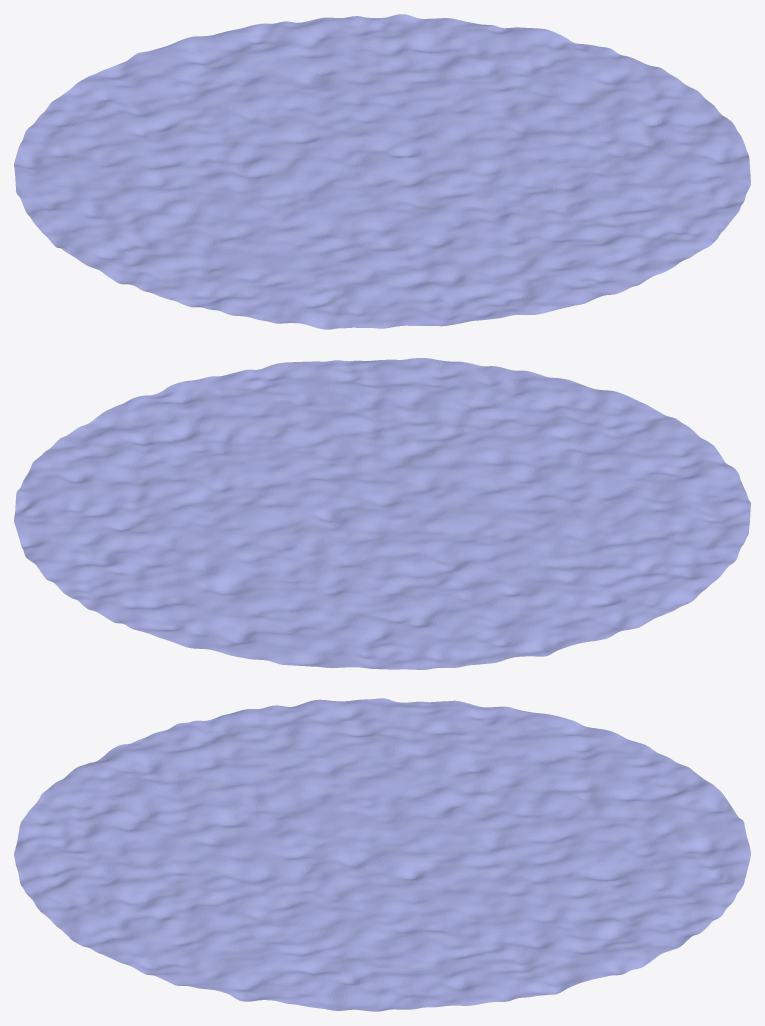
Rendered from Water.fbx.
3 renders of one model, top to bottom at view 1: azimuth 30°, elevation 25°; view 2: azimuth 150°, elevation 25°; view 3: azimuth 270°, elevation 25°, orthographic.
Parts seen in each view (by area): view 1: Circle.001; view 2: Circle.001; view 3: Circle.001.
Boxes of the visible parts, x1,y1,x2,y2 form: Circle.001: (14,14,750,329); Circle.001: (14,358,750,669); Circle.001: (14,698,750,1011).
Bounding box in the file's own units: 4423 × 52.62 × 4423.
